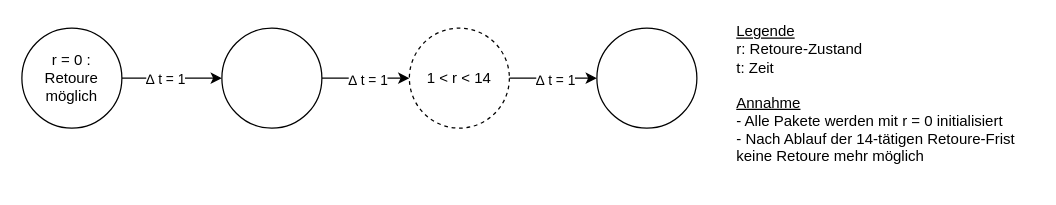
Image size: 1056x205. Some labels were removed from this diagram. Each missing label, with the centre of its shape:
"r = 1 : Retoure möglich" belongs at pixel 271 77.
"r = 14 : Retoure nicht möglich" belongs at pixel 646 77.
